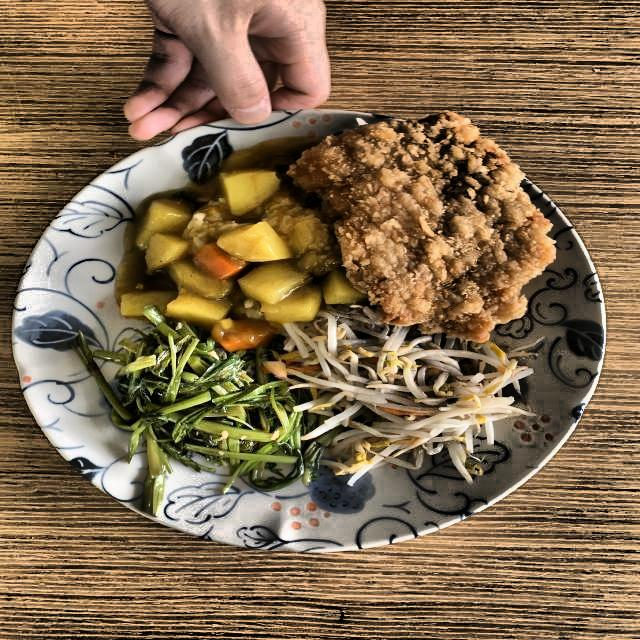Food: (314, 133, 540, 322), (119, 182, 315, 323), (111, 334, 305, 472), (318, 329, 515, 456)
